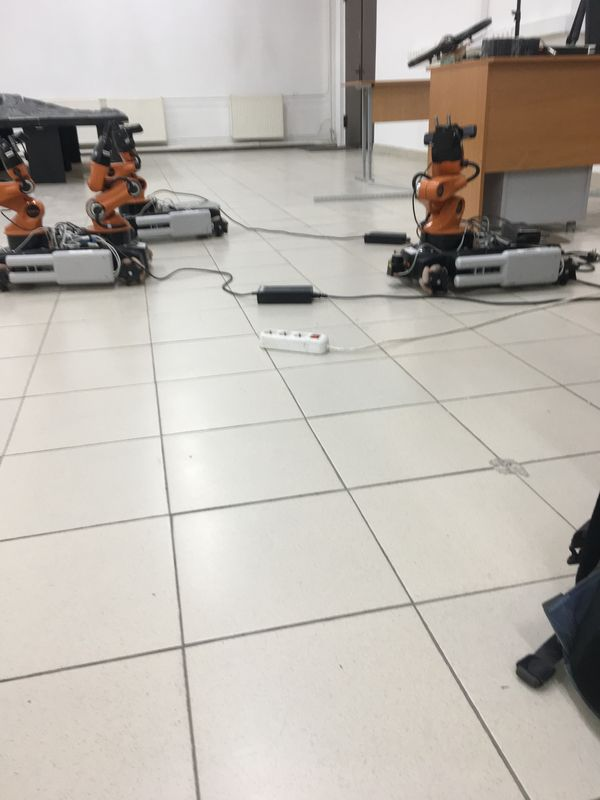socket: (254, 323, 334, 356)
